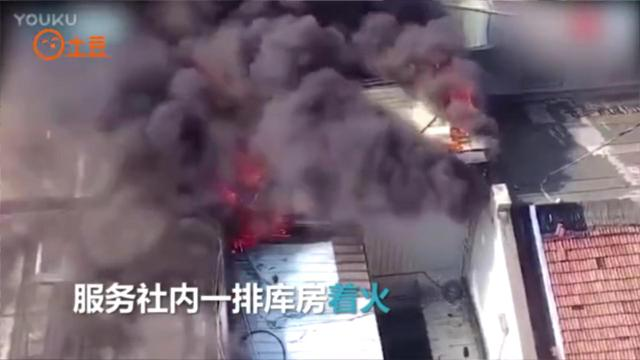smoke: (267, 101, 457, 217), (105, 40, 207, 166), (215, 7, 329, 101), (362, 15, 474, 102)
